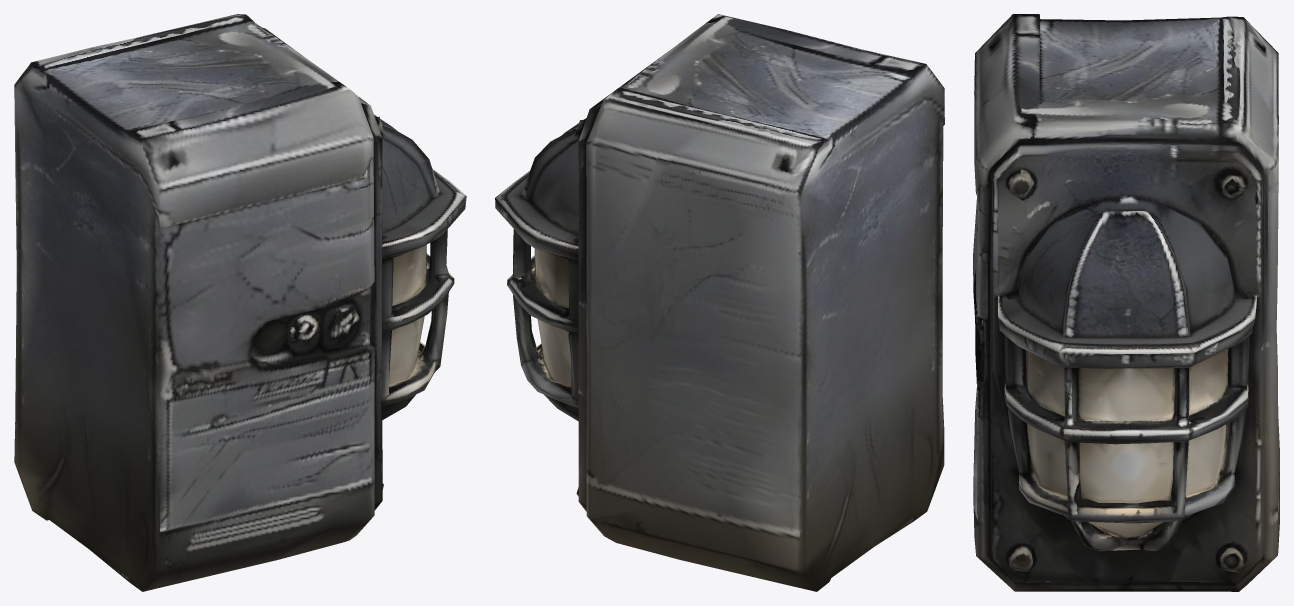
File: tripo_convert_de61127d-cbf5-4667-9908-9704c328e923.fbx
The picture shows the model from 3 angles, left to right: view 1: azimuth 30°, elevation 25°; view 2: azimuth 150°, elevation 25°; view 3: azimuth 270°, elevation 25°; orthographic projection. The views are drawn at different scales.
Visible parts, largest first — view 1: tripo_node_de61127d; view 2: tripo_node_de61127d; view 3: tripo_node_de61127d.
Part boxes in pixels (x1,y1,x2,y2): tripo_node_de61127d: [14, 14, 466, 591]; tripo_node_de61127d: [495, 14, 944, 591]; tripo_node_de61127d: [973, 14, 1279, 591].
Size of the model in its own units: 0.8035 by 1 by 0.5856.
1 material, 1 textured.
